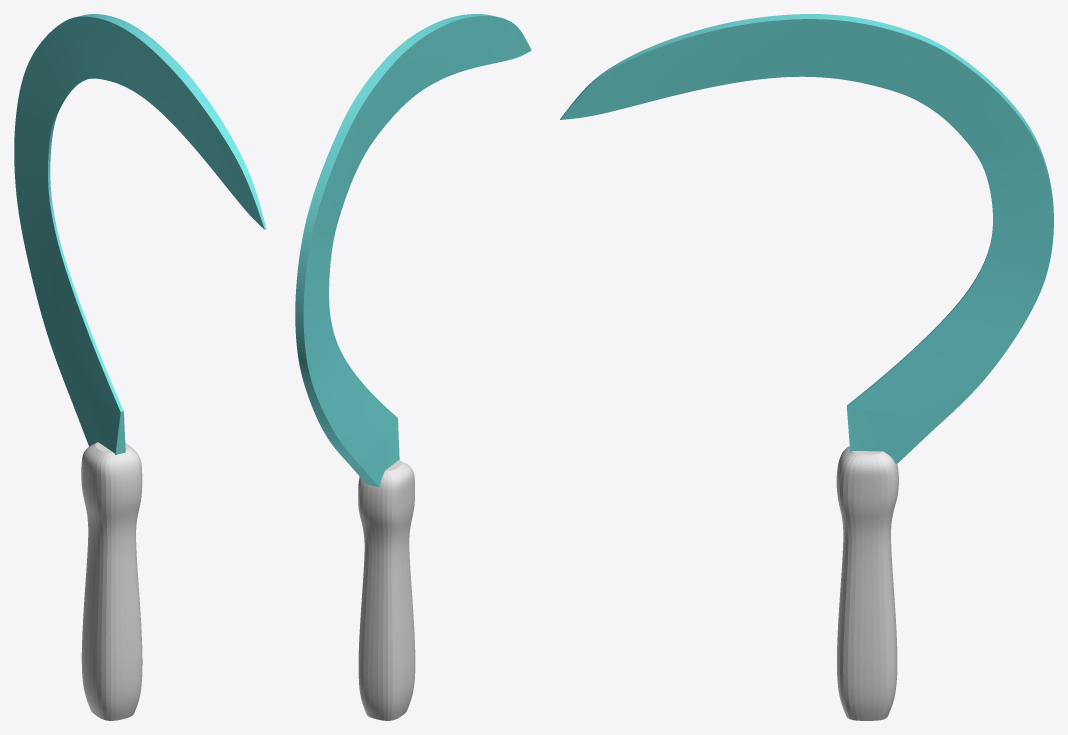
File: sickle_.fbx
The picture shows the model from 3 angles, left to right: view 1: azimuth 30°, elevation 25°; view 2: azimuth 150°, elevation 25°; view 3: azimuth 270°, elevation 25°; orthographic projection. The views are drawn at different scales.
Visible parts, largest first — view 1: Sickle_Low1; view 2: Sickle_Low1; view 3: Sickle_Low1.
Part boxes in pixels (x1,y1,x2,y2): Sickle_Low1: [14, 14, 266, 720]; Sickle_Low1: [295, 14, 531, 720]; Sickle_Low1: [560, 14, 1053, 720].
Size of the model in its own units: 35.22 by 509 by 327.
